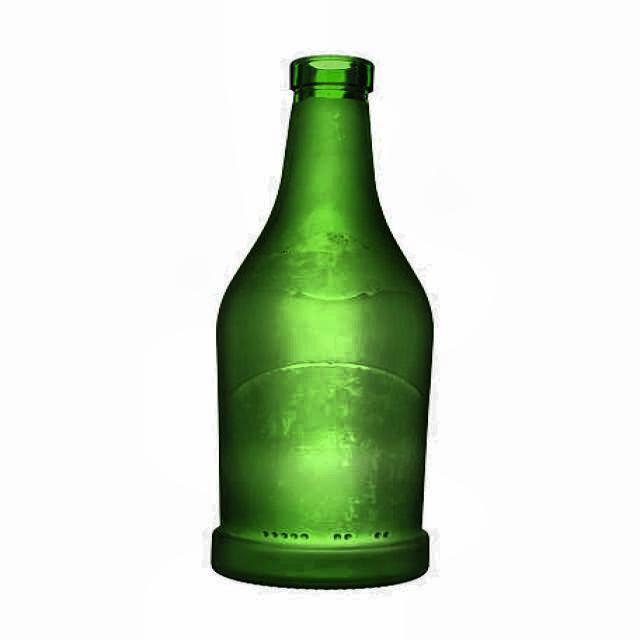glass: (209, 55, 435, 592)
